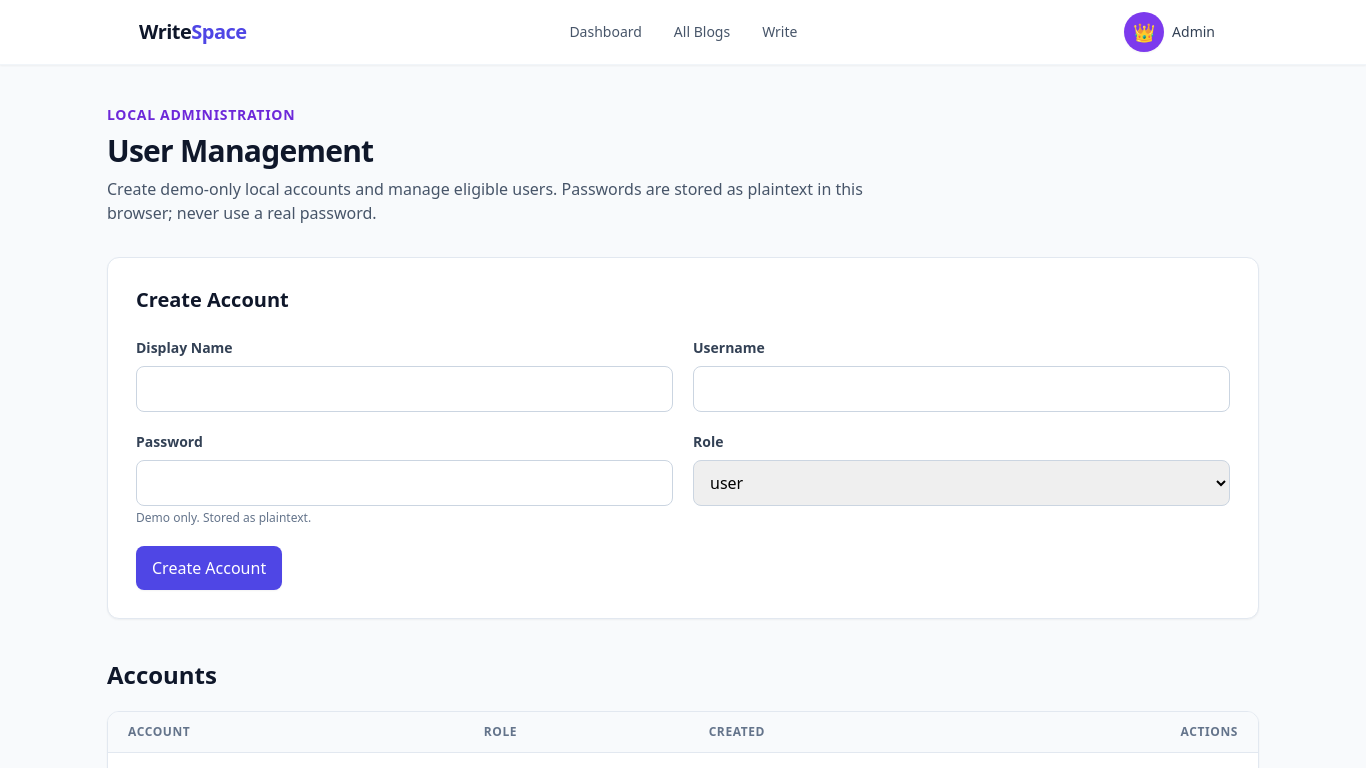
Test: user management › enforces exact case-sensitive uniqueness including built-in admin
Type "Duplicate" into the field labelled "Display Name" at (404, 389), box [136,366,673,412]
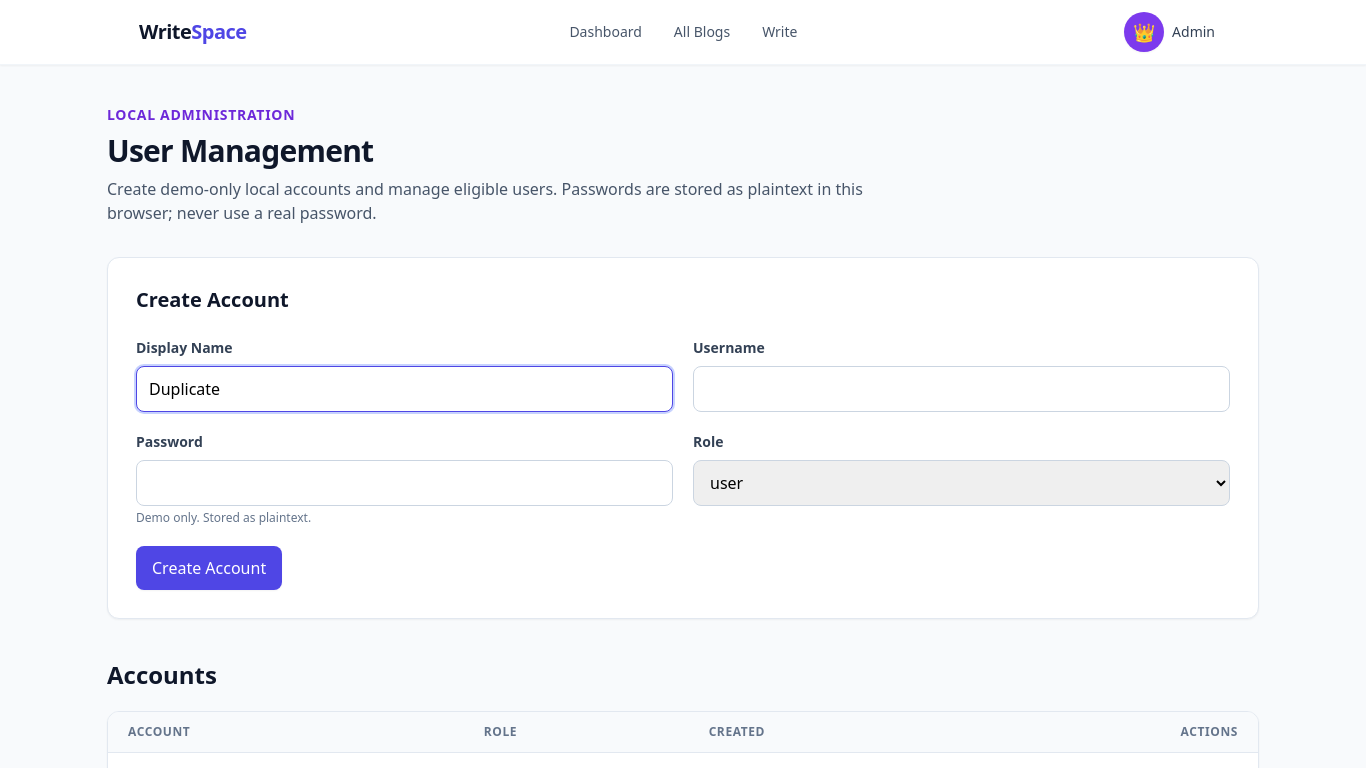
Type "admin" into the field labelled "Username" at (962, 389), box [693,366,1230,412]
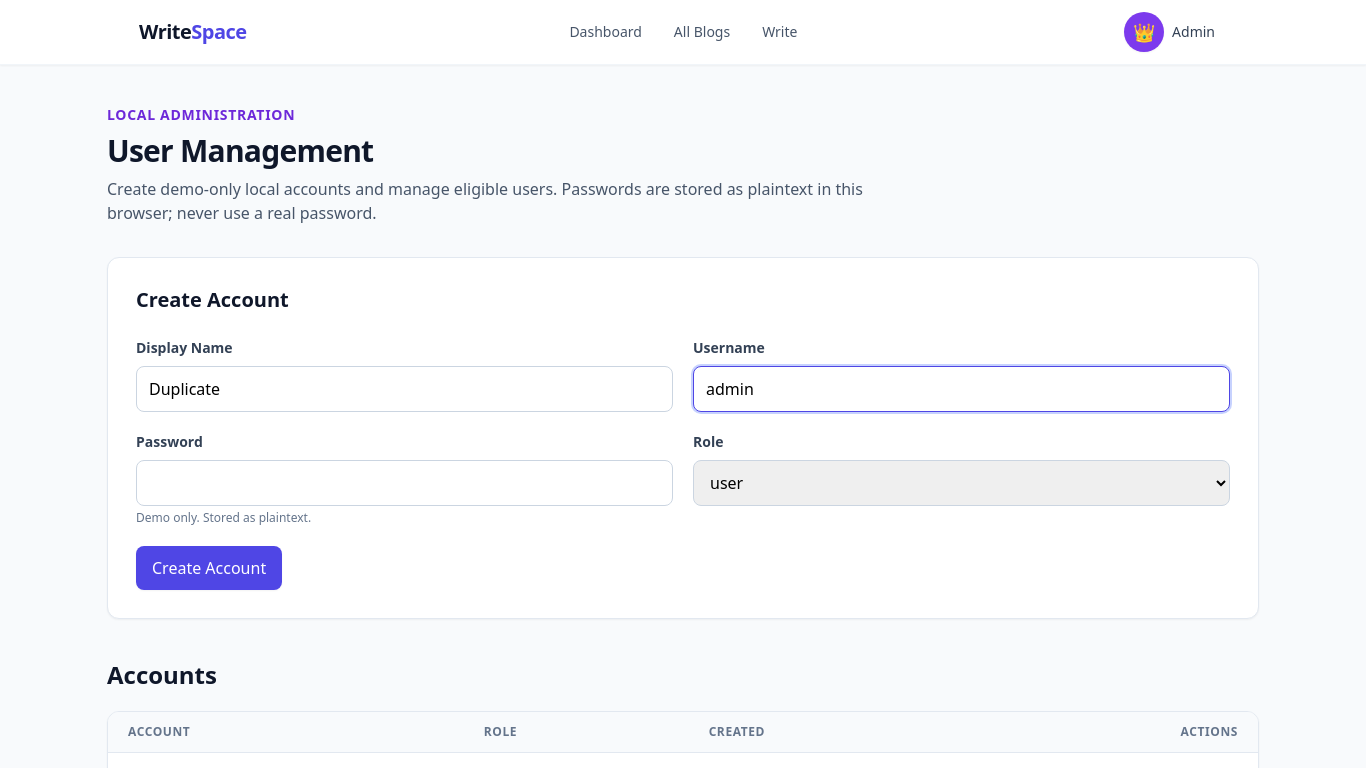
Type "demo" into the password field labelled "Password" at (404, 483), box [136,460,673,506]
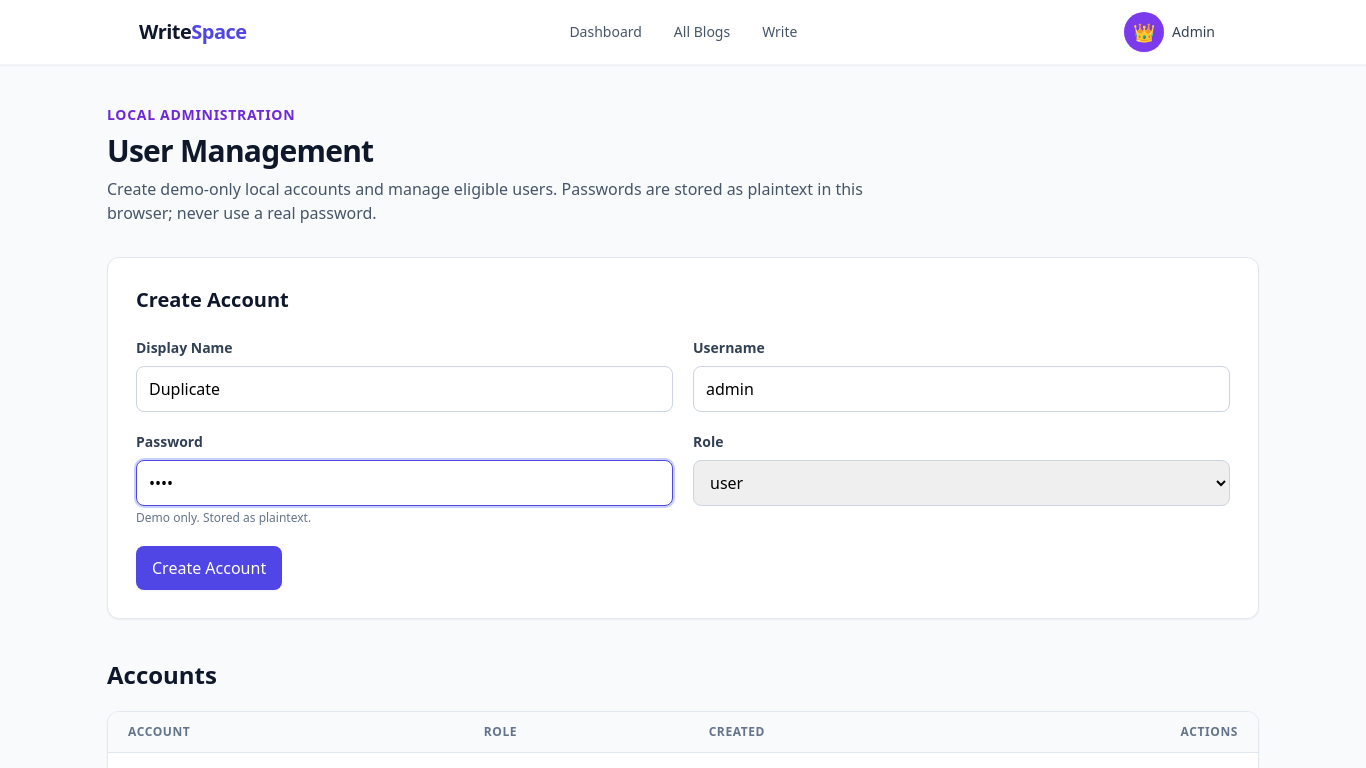
Click the button "Create Account" at (209, 568), box [136,546,282,590]
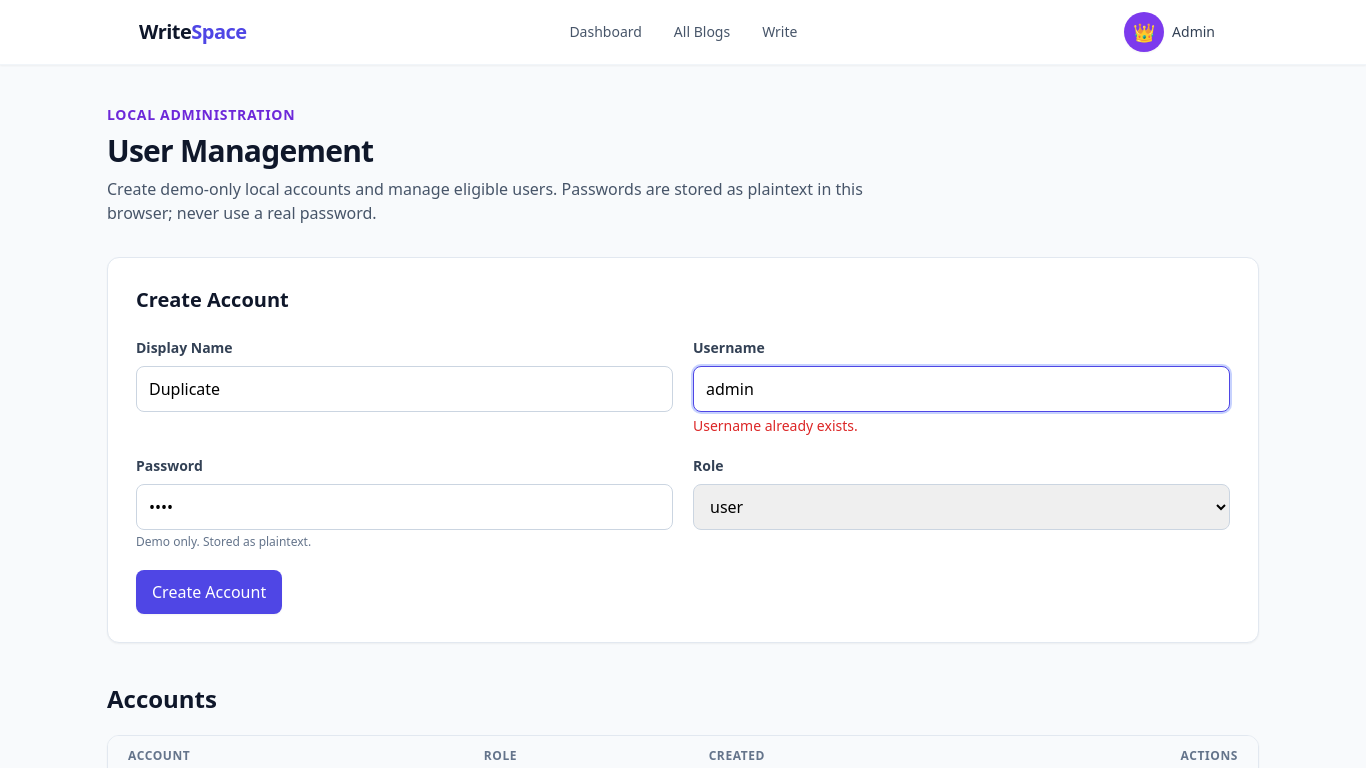
Now the text "Username already exists." is shown, box [693,416,858,435]
Replace the text in the field labelled "Username" with "Admin" at (962, 389), box [693,366,1230,412]
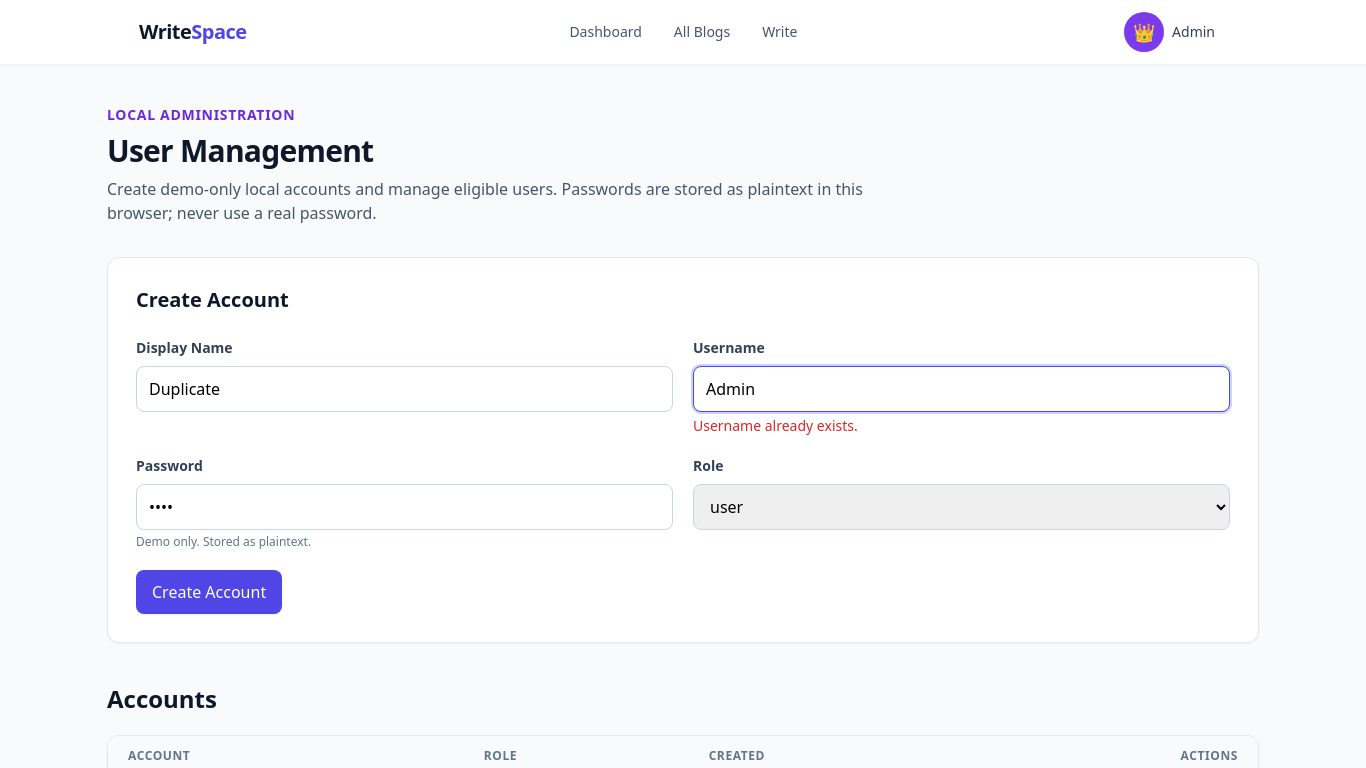
Click the button "Create Account" at (209, 592), box [136,570,282,614]
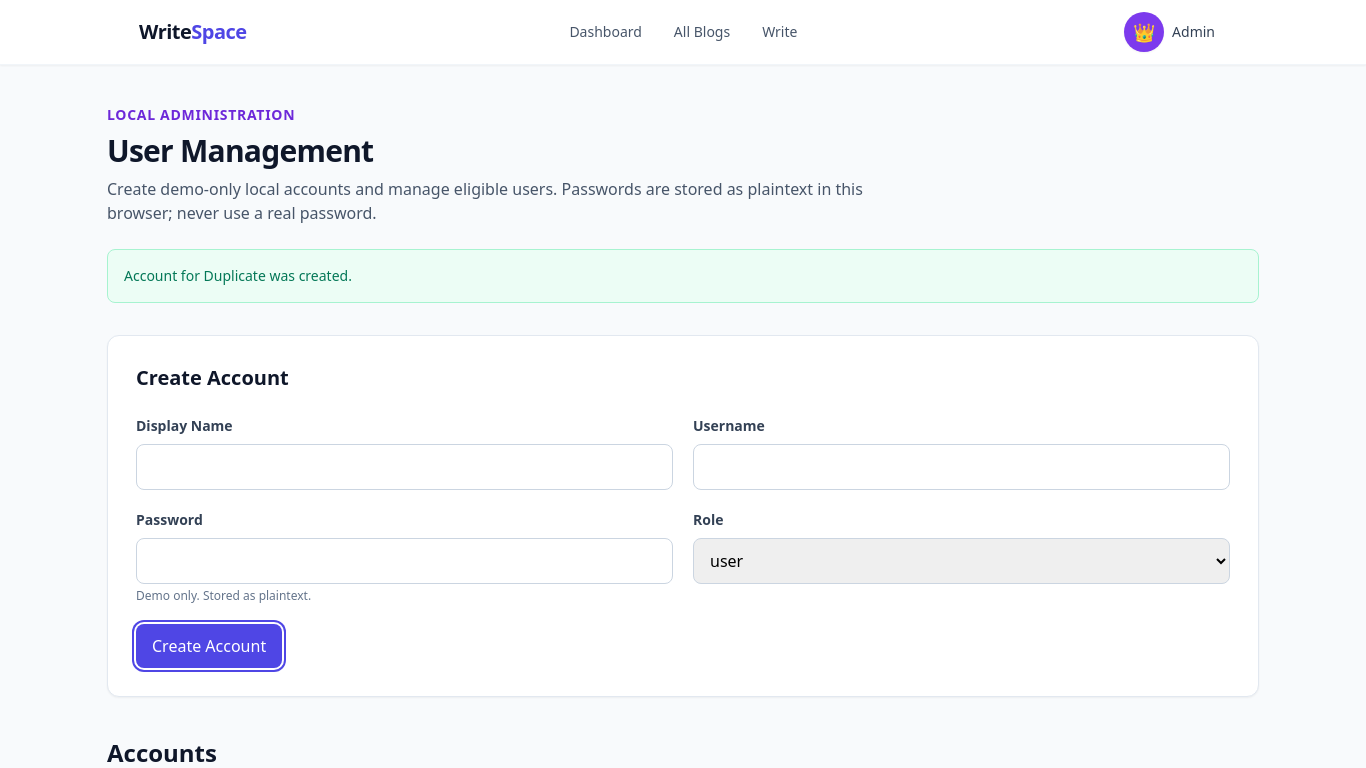
Expected: the text "Admin" is shown, [1172,22,1215,42]
Now the text "Account for Duplicate was created." is shown, box [107,249,1259,303]
